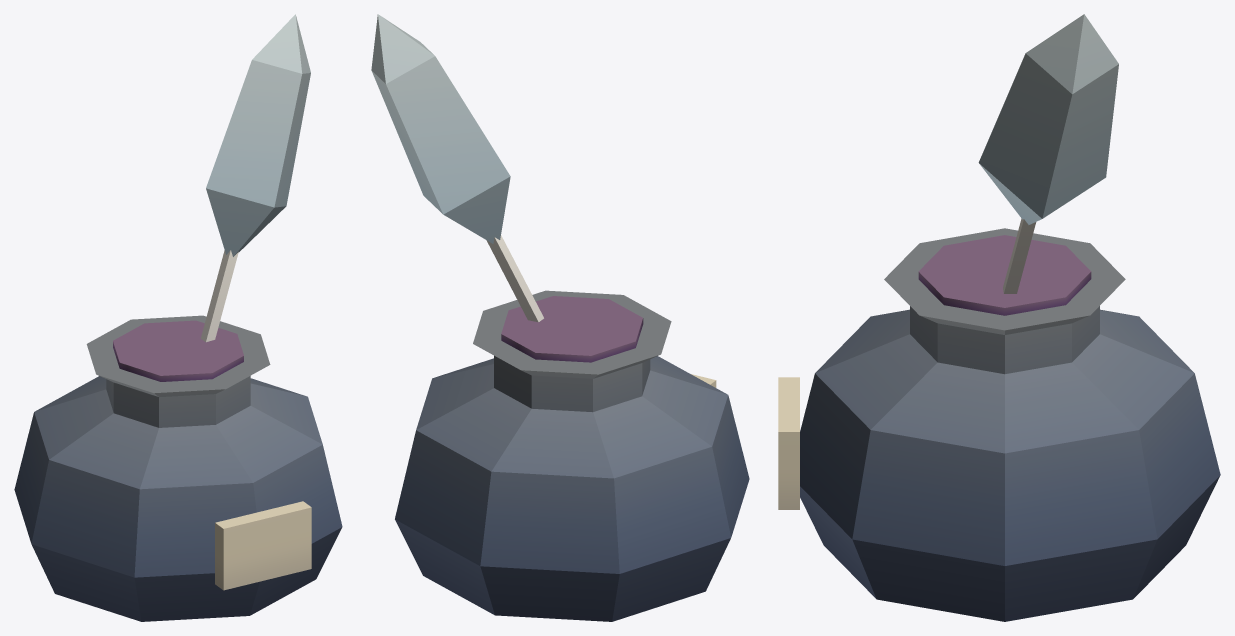
File: item_night_ink.glb
3 views of the same model, side by side, from view 1: azimuth 30°, elevation 25°; view 2: azimuth 150°, elevation 25°; view 3: azimuth 270°, elevation 25° (orthographic). The views are drawn at different scales.
Visible parts, largest first — view 1: item_night_ink; view 2: item_night_ink; view 3: item_night_ink.
Part boxes in pixels (bbox=[...]): item_night_ink: bbox=[14, 14, 342, 621]; item_night_ink: bbox=[371, 14, 749, 621]; item_night_ink: bbox=[778, 14, 1220, 621].
Bounding box in the file's own units: 1.04 × 1.61 × 1.02.
Materials: 1 (1 with a texture image).
